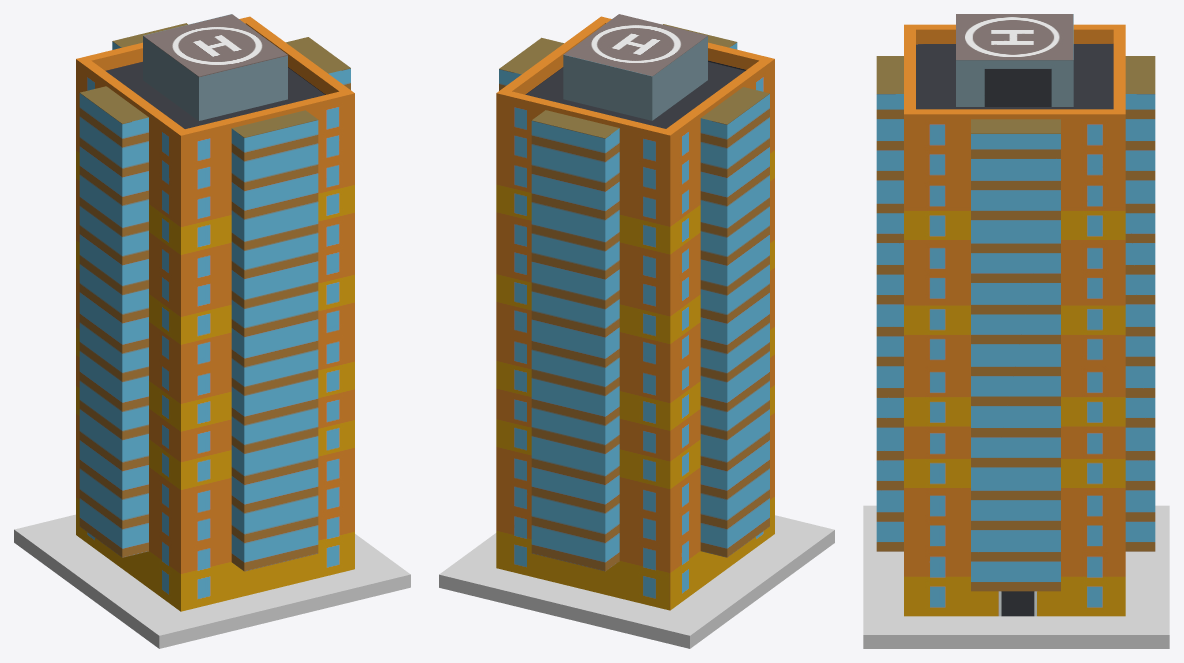
Rendered from Skyscraper_2.FBX.
The picture shows the model from 3 angles, left to right: view 1: azimuth 30°, elevation 25°; view 2: azimuth 150°, elevation 25°; view 3: azimuth 270°, elevation 25°; orthographic projection. The views are drawn at different scales.
Visible parts, largest first — view 1: Box002, Box009, Box007, Box001, Box006; view 2: Box002, Box008, Box007, Box001, Box006; view 3: Box002, Box006, Box001, Box008, Box009.
Part boxes in pixels (x1,y1,x2,y2): Box002: (76, 14, 354, 611); Box009: (231, 110, 318, 571); Box007: (79, 86, 148, 557); Box001: (14, 514, 410, 648); Box006: (286, 37, 350, 89); Box002: (496, 14, 774, 610); Box008: (531, 110, 619, 571); Box007: (700, 87, 769, 557); Box001: (439, 515, 834, 648); Box006: (499, 37, 563, 90); Box002: (904, 14, 1125, 616); Box006: (971, 119, 1060, 591); Box001: (863, 505, 1169, 648); Box008: (1125, 56, 1155, 551); Box009: (876, 56, 903, 551).
Size of the model in its own units: 1 by 1.98 by 1.
2 materials, 2 textured.
